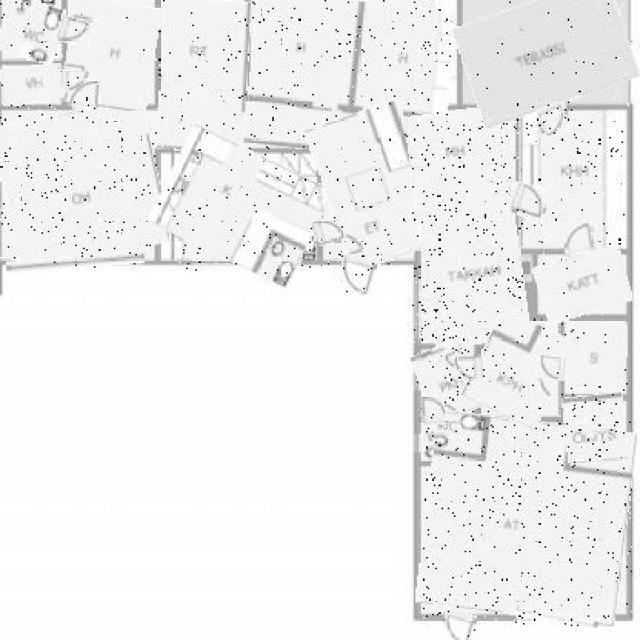door: (337, 255, 377, 297), (509, 184, 546, 218), (57, 19, 94, 46), (312, 217, 346, 245), (443, 611, 475, 640), (566, 221, 594, 254), (540, 103, 568, 134), (69, 80, 100, 108), (537, 355, 569, 380), (454, 355, 484, 380), (422, 397, 444, 425), (58, 70, 91, 88)
window: (6, 254, 145, 271), (516, 608, 598, 628)
zone: (422, 417, 632, 620), (246, 0, 452, 157), (412, 108, 523, 348), (0, 103, 163, 263), (156, 138, 324, 274), (457, 0, 634, 115), (316, 105, 436, 266), (518, 109, 624, 248), (158, 0, 250, 151), (471, 314, 566, 423), (63, 0, 157, 108), (536, 250, 630, 318), (415, 343, 477, 420), (563, 394, 626, 463), (568, 322, 628, 391), (0, 0, 63, 60), (0, 64, 63, 104), (421, 423, 474, 459)
